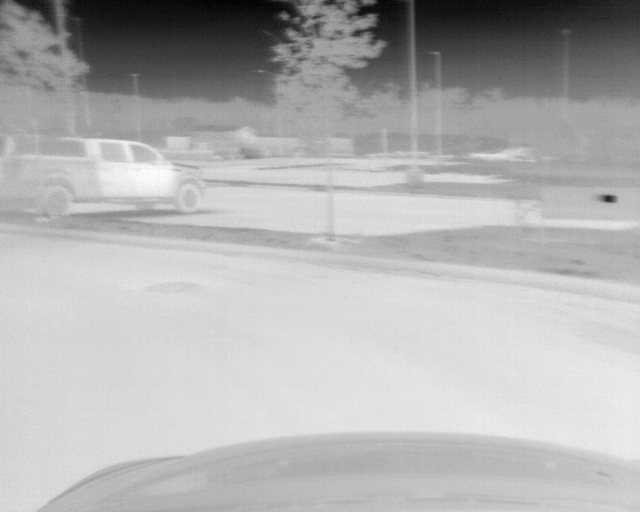car: (1, 139, 206, 218)
